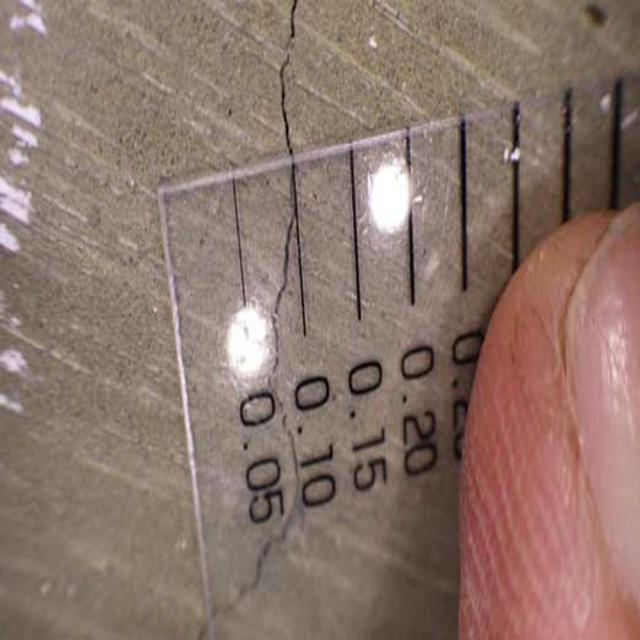crack: (194, 8, 331, 640)
